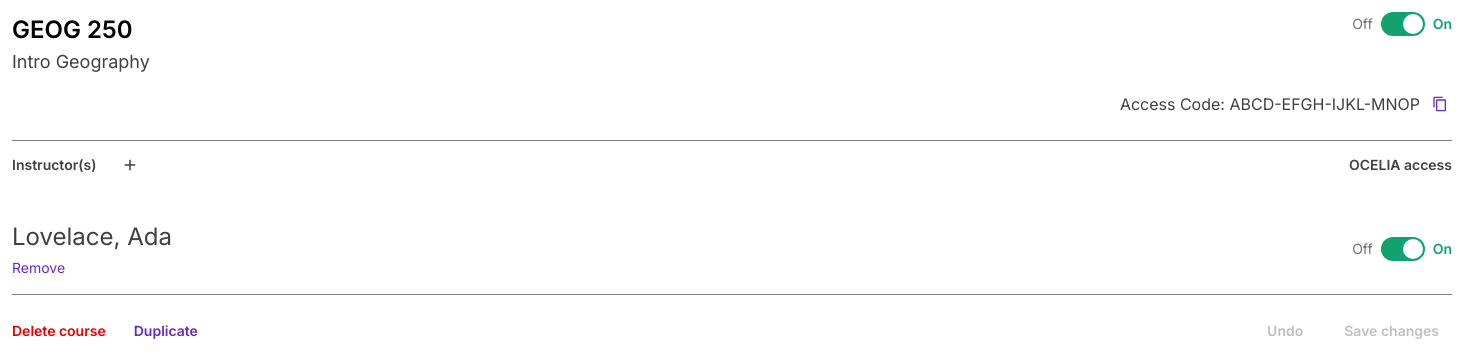
CourseDetail (staged editing) › enables Undo with Save on a staged edit and resets everything on click
Check: the button "Undo" is disabled, box [1255,317,1315,345]
Check: the button "Save changes" is disabled, box [1331,317,1452,345]
# A staged instructor removal enables both (and drops the row).
Click the button "Remove" at (39, 268), box [12,258,65,278]
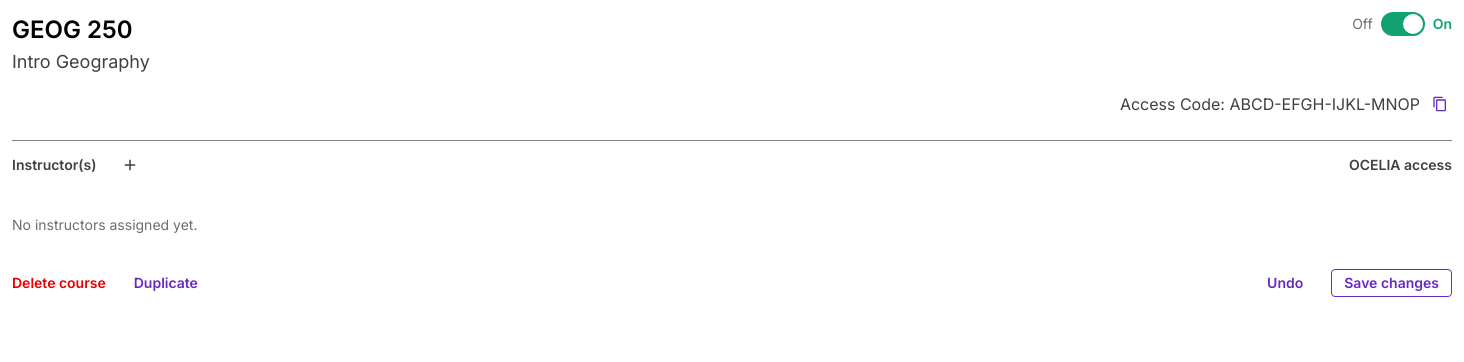
Check: the text "Lovelace, Ada" is gone
Check: the button "Undo" is enabled
Check: the button "Save changes" is enabled, box [1331,269,1452,297]
# Undo reverts everything: the row returns, both disable again, nothing saved.
Click the button "Undo" at (1285, 283), box [1255,269,1315,297]
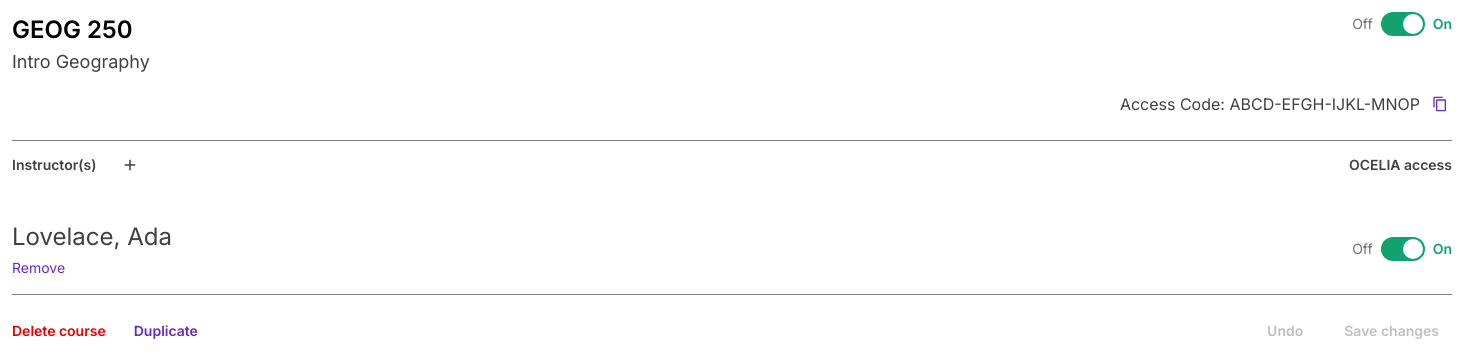
Check: the text "Lovelace, Ada" is shown, box [12,222,172,251]
Check: the button "Undo" is disabled, box [1255,317,1315,345]
Check: the button "Save changes" is disabled, box [1331,317,1452,345]
